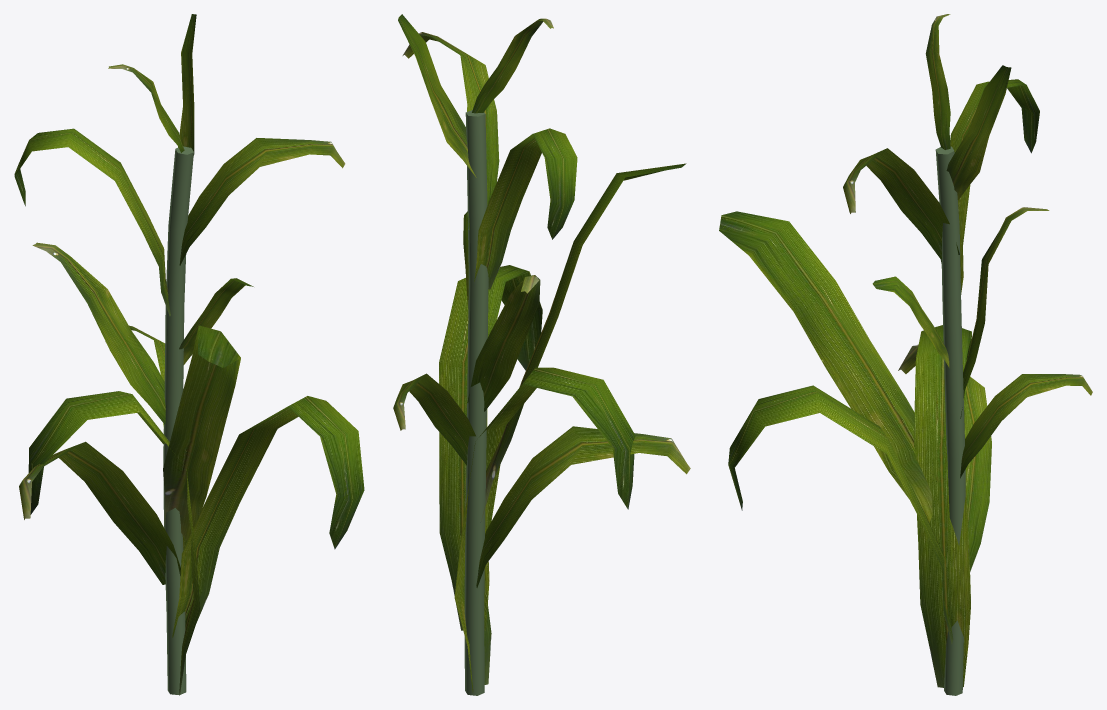
Rendered from milho1.fbx.
3 views of the same model, side by side, from view 1: azimuth 30°, elevation 25°; view 2: azimuth 150°, elevation 25°; view 3: azimuth 270°, elevation 25° (orthographic). The views are drawn at different scales.
Visible parts, largest first — view 1: milho1; view 2: milho1; view 3: milho1.
Part boxes in pixels (x1,y1,x2,y2): milho1: [14, 14, 364, 695]; milho1: [393, 14, 690, 695]; milho1: [719, 14, 1092, 695].
Bounding box in the file's own units: 264 × 554 × 289.
